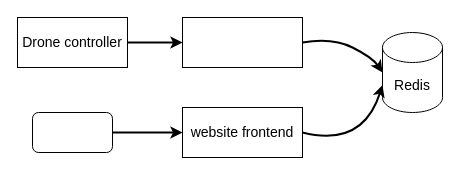
Some shapes in this 460 by 175 pixel diagram are drawn without their labels. Each missing label, with the centre of its shape:
"database frontend" goes at [242,42].
"web client" goes at [72,132].
